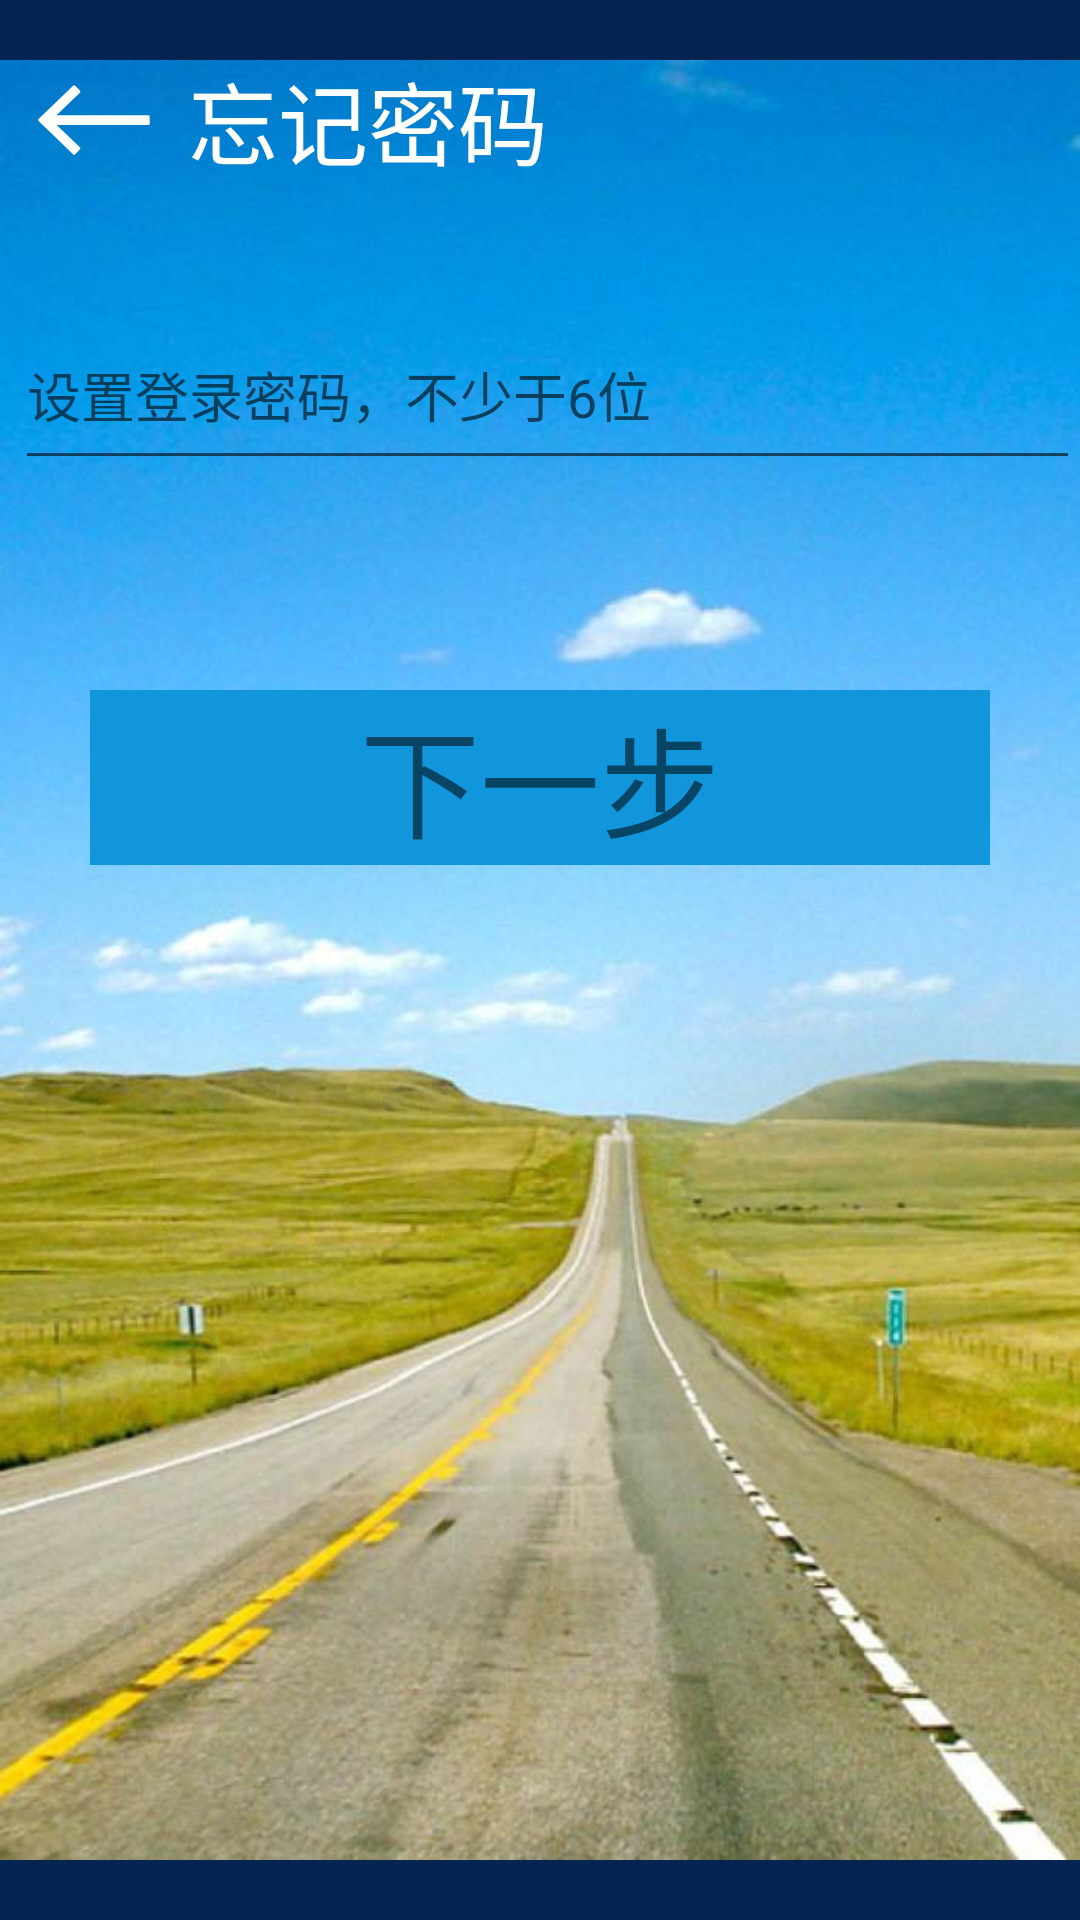

Named icons in this screenshot (1080px x 1920px) and their bounding boxes, (x1, y1, x2, y2):
back: (38, 85, 150, 155)
